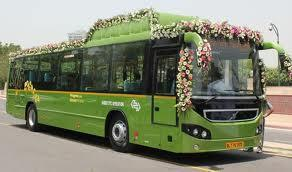Bus: (5, 9, 278, 155)
